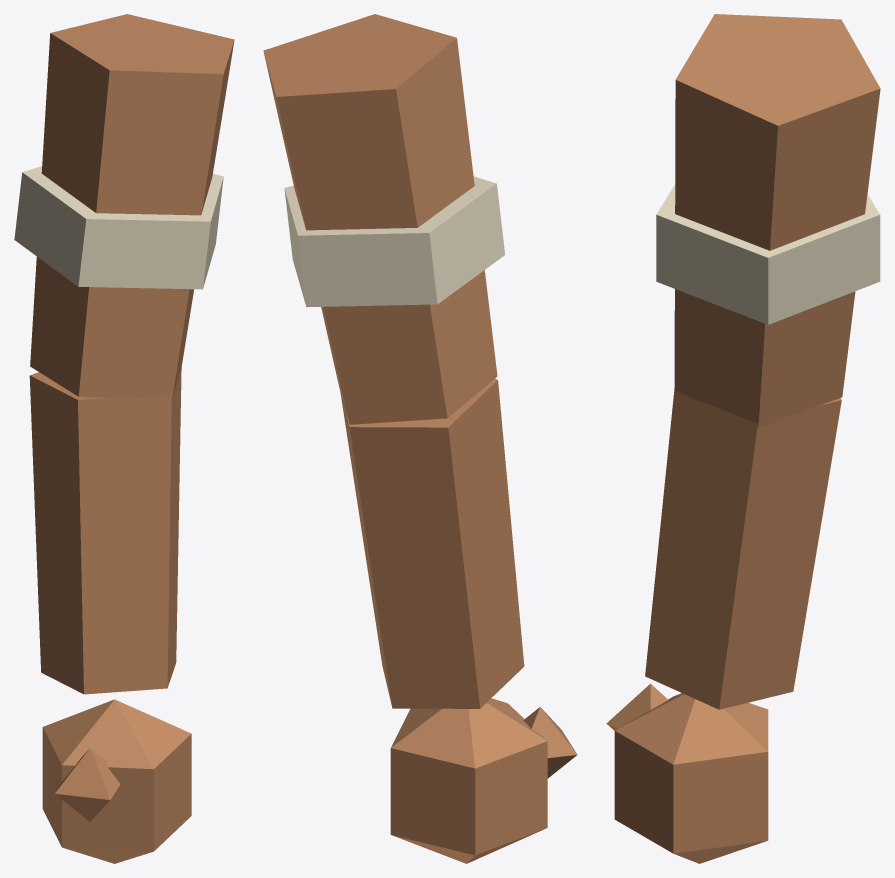
Rendered from part_arm_l.obj.
The picture shows the model from 3 angles, left to right: view 1: azimuth 30°, elevation 25°; view 2: azimuth 150°, elevation 25°; view 3: azimuth 270°, elevation 25°; orthographic projection. The views are drawn at different scales.
Visible parts, largest first — view 1: CavemanArmL; view 2: CavemanArmL; view 3: CavemanArmL.
Part boxes in pixels (x1,y1,x2,y2): CavemanArmL: (14, 14, 234, 863); CavemanArmL: (263, 14, 577, 863); CavemanArmL: (606, 14, 880, 863).
Size of the model in its own units: 0.3037 by 0.9572 by 0.2795.
